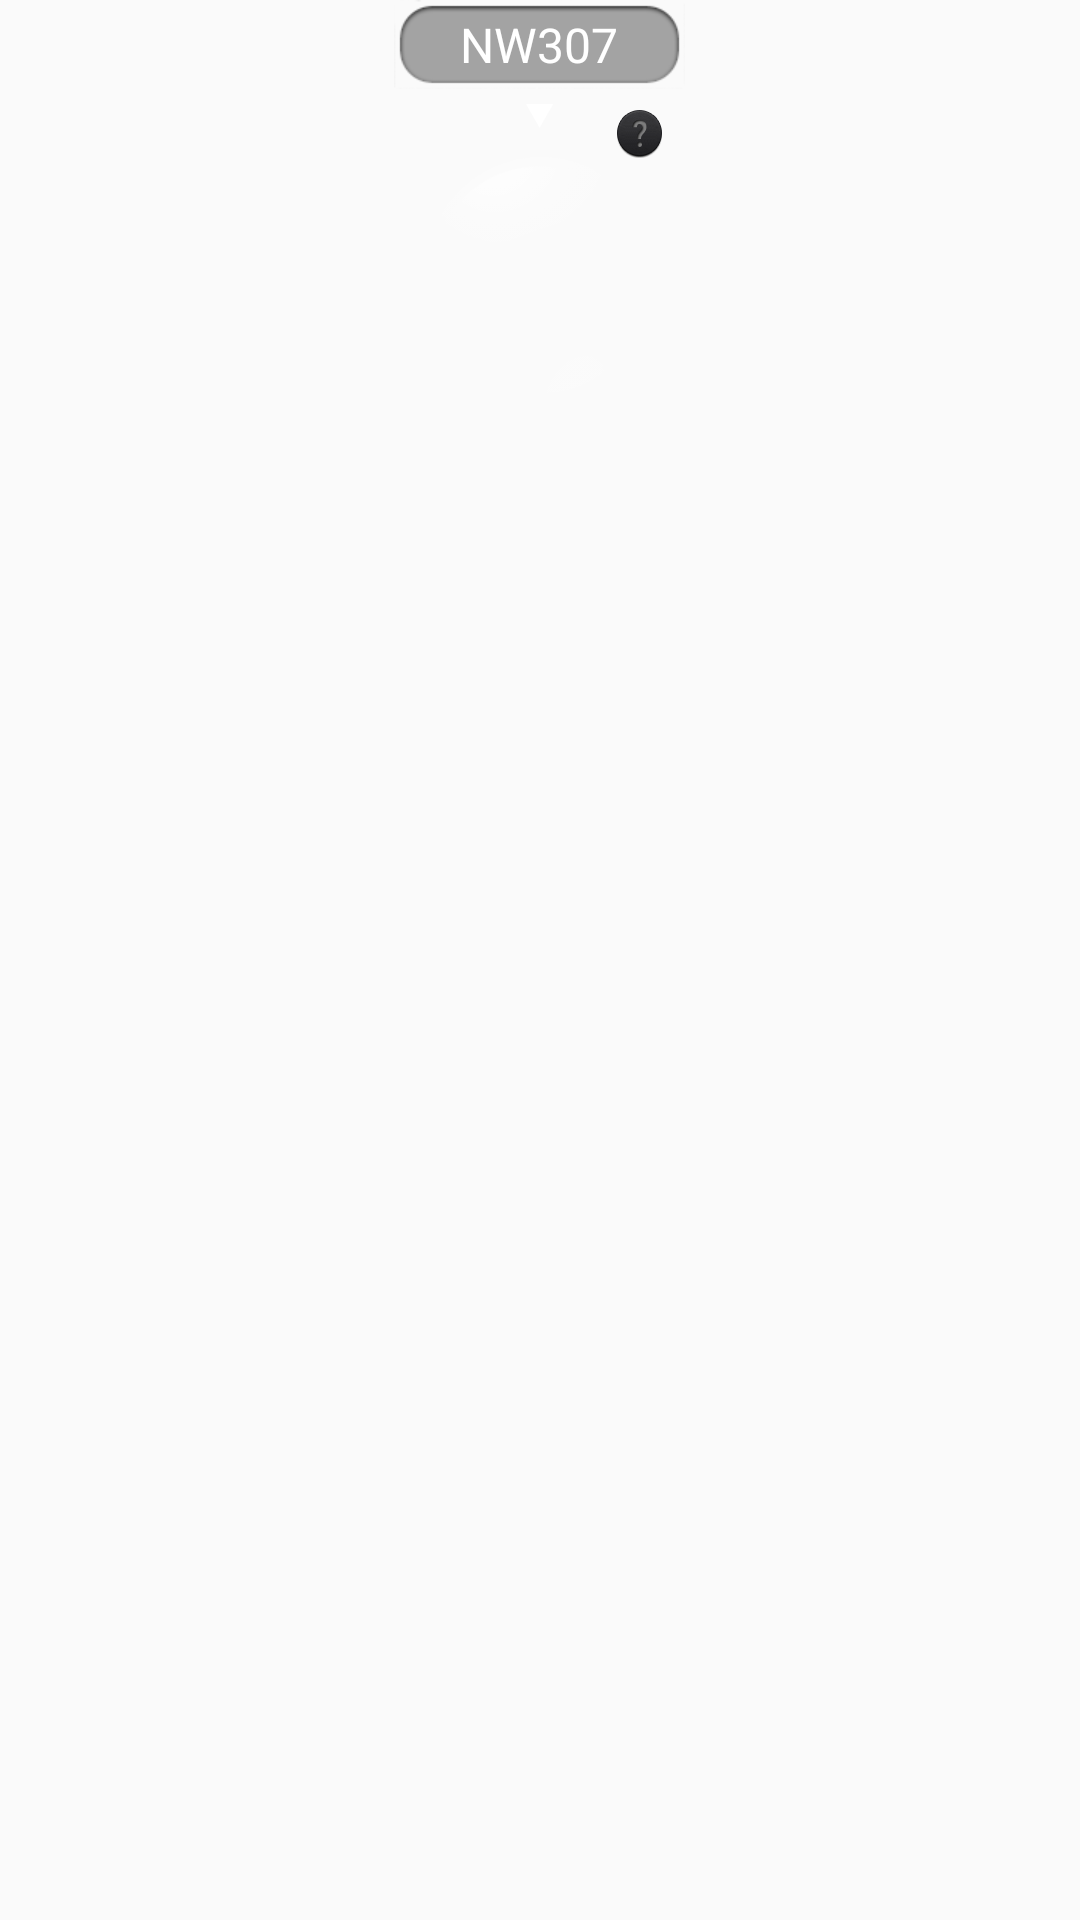

Where icons sit on this 1080px×1920px app screen, as (x1, y1, x2, y2):
compass question: (617, 110, 662, 158)
